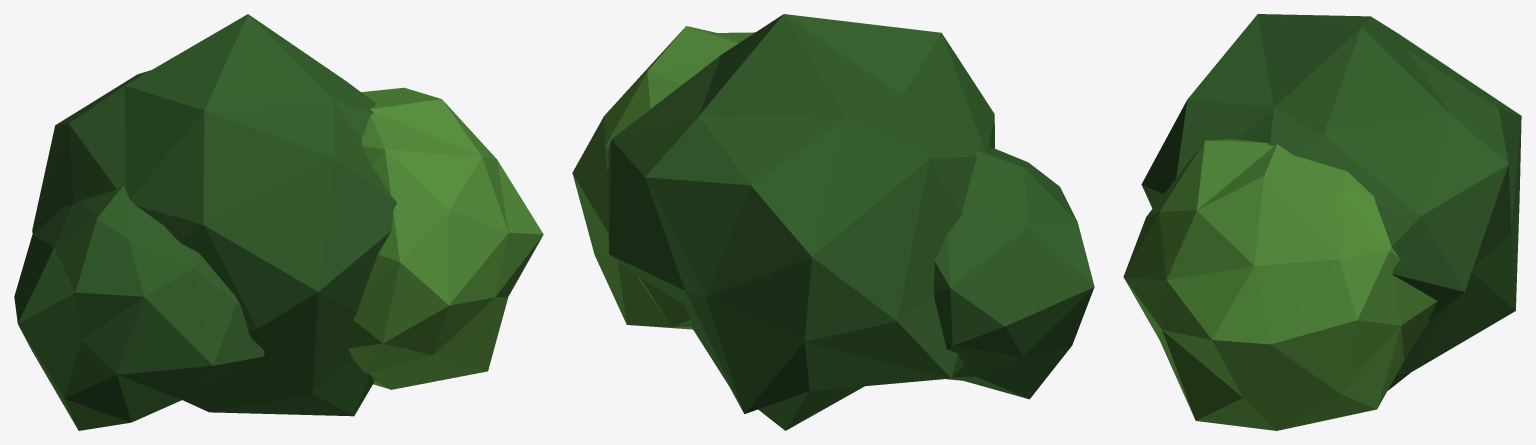
Rendered from bush.glb.
3 renders of one model, left to right at view 1: azimuth 30°, elevation 25°; view 2: azimuth 150°, elevation 25°; view 3: azimuth 270°, elevation 25°, orthographic. The views are drawn at different scales.
Parts seen in each view (by area): view 1: bush; view 2: bush; view 3: bush.
Boxes of the visible parts, bbox=[...] form: bush: bbox=[14, 14, 543, 430]; bush: bbox=[572, 14, 1094, 430]; bush: bbox=[1123, 14, 1521, 430].
Bounding box in the file's own units: 1.43 × 1.12 × 1.06.
